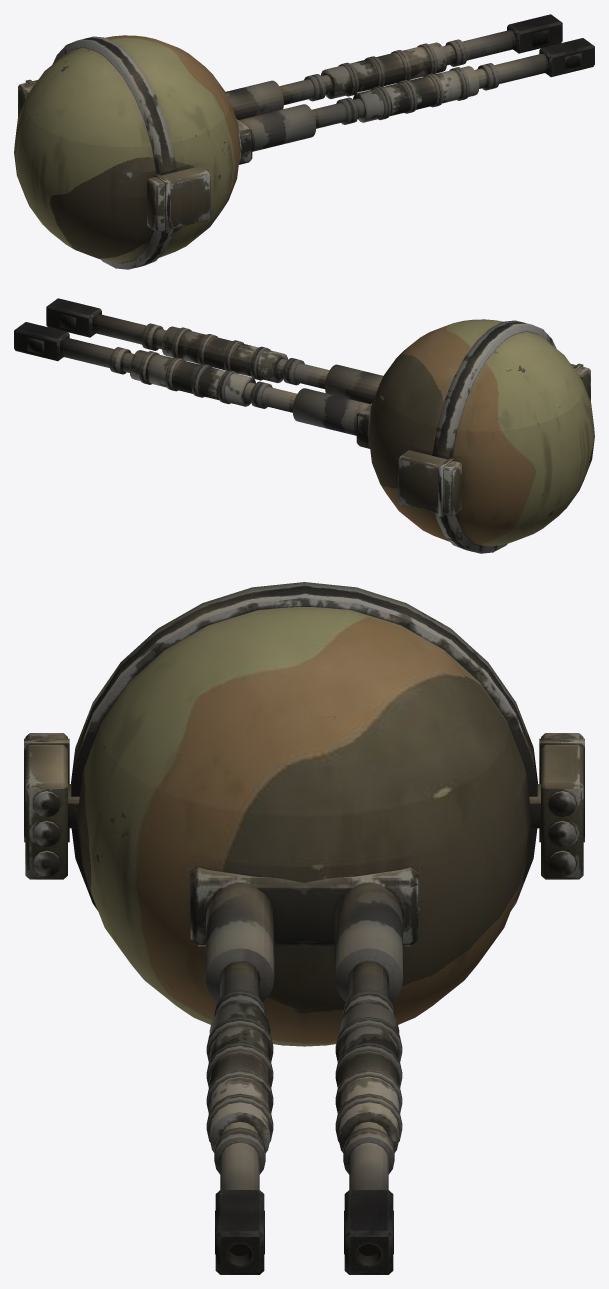
Rendered from turret_kit_tail_ball_t3_steppe.glb.
The picture shows the model from 3 angles, top to bottom: view 1: azimuth 30°, elevation 25°; view 2: azimuth 150°, elevation 25°; view 3: azimuth 270°, elevation 25°; orthographic projection. The views are drawn at different scales.
Visible parts, largest first — view 1: turret_tail_ball_t3, pods; view 2: turret_tail_ball_t3, pods; view 3: turret_tail_ball_t3, pods.
Boxes of the visible parts, left/top/right/bottom form: turret_tail_ball_t3: left=14, top=14, right=594, bottom=269; pods: left=18, top=79, right=210, bottom=232; turret_tail_ball_t3: left=14, top=298, right=594, bottom=553; pods: left=398, top=363, right=590, bottom=516; turret_tail_ball_t3: left=71, top=582, right=537, bottom=1274; pods: left=24, top=733, right=584, bottom=879.
Size of the model in its own units: 1.66 by 0.62 by 0.7402.
2 materials, 2 textured.
